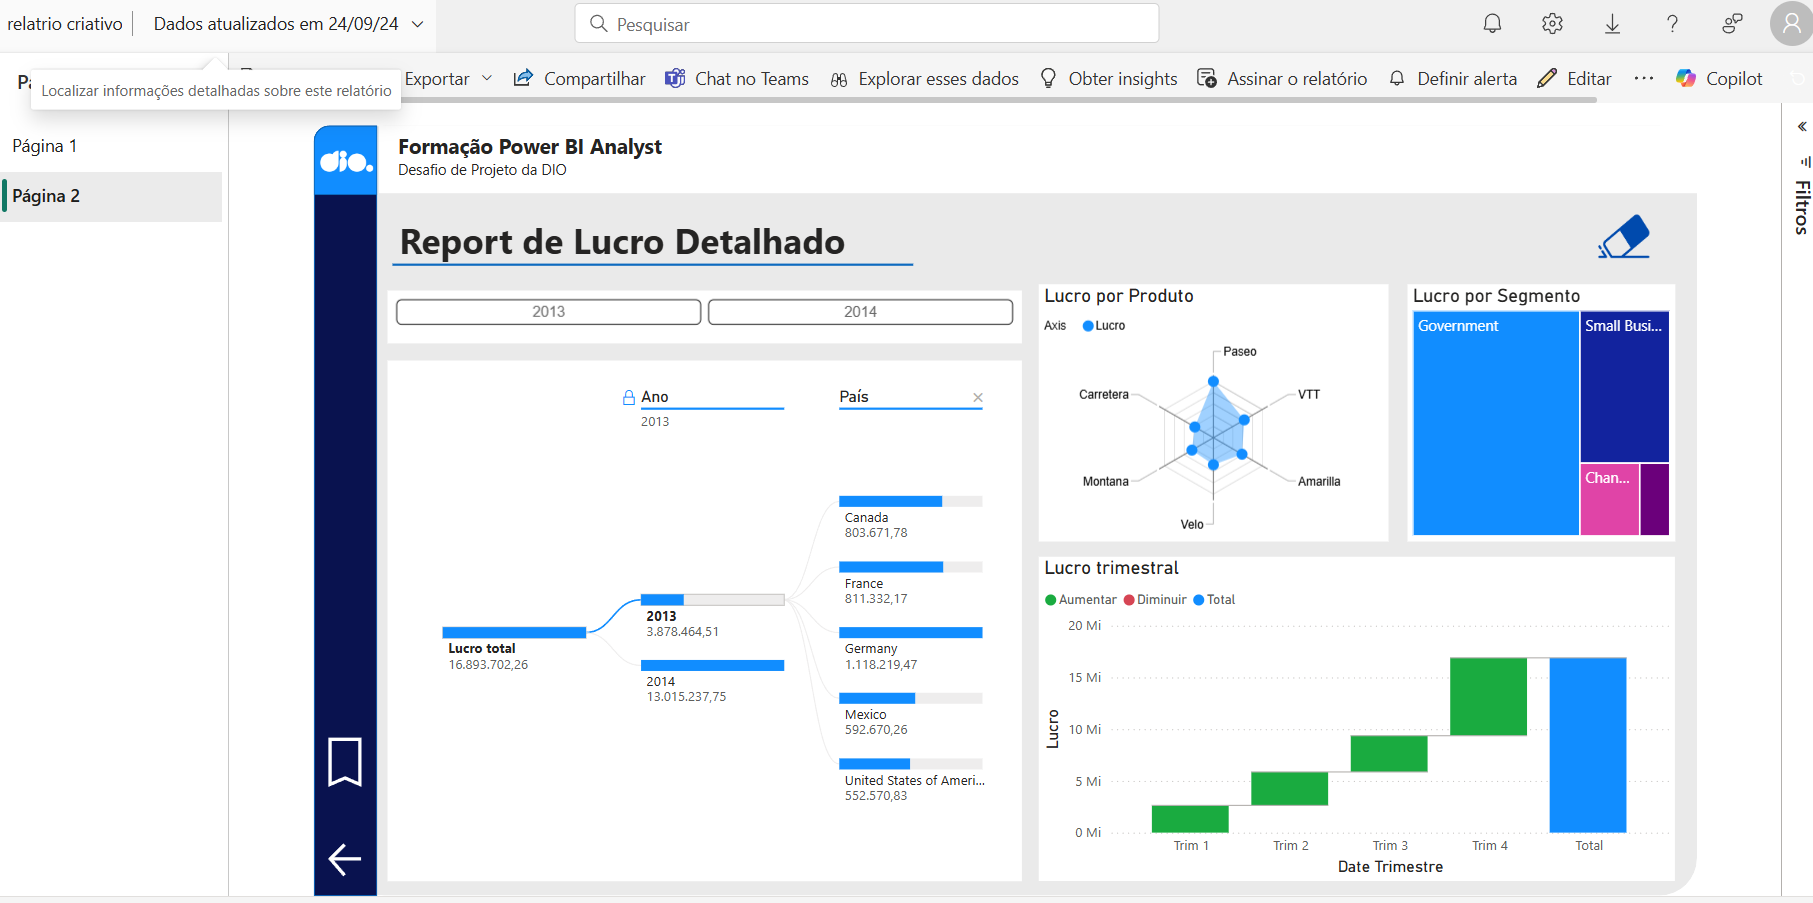

The page's visual inventory and layout, read from the dashboard file:
{"tool":"powerbi","page":{"name":"Página 2","canvas":[1280,720],"ordinal":1},"visuals":[{"type":"shape","box":[42.6,20.7,1225.3,699.3],"z":0},{"type":"shape","box":[83.9,127.8,473,37.1],"z":0,"group":"g1"},{"type":"textbox","box":[85.3,97.6,470.2,52.2],"z":1000,"group":"g1"},{"type":"shape","box":[12.4,20.2,57.7,699.8],"z":1000},{"type":"shape","box":[12.4,20.6,57.7,63.2],"z":2000},{"type":"image","box":[13.7,33,57.7,39.9],"z":3000},{"type":"image","title":"clean","box":[1172.6,93.5,59.8,56.1],"z":3000},{"type":"shape","title":"Fundo do Título","box":[71.5,20.6,1198.9,61.9],"z":4000},{"type":"textbox","title":"Título do report","box":[83.9,22,378.1,63.2],"z":5000},{"type":"shape","box":[79.7,233.7,576.1,473],"z":6000},{"type":"decompositionTreeVisual","fields":{"Analyze":["Sum(financials.Profit)"],"ExplainBy":["financials.Date.Variation.Hierarquia de datas.Ano","financials.Country"]},"box":[99.8,242.2,536.3,456.5],"z":7000},{"type":"waterfallChart","title":"Lucro trimestral","fields":{"Category":["financials.Date.Variation.Hierarquia de datas.Trimestre"],"Y":["Sum(financials.Profit)"]},"box":[670.9,412.5,577.4,294.2],"z":8000},{"type":"ChicletSlicer1448559807354","fields":{"Category":["financials.Date.Variation.Hierarquia de datas.Ano"]},"box":[79.7,170.5,576.1,48.1],"z":9000},{"type":"RadarChart1446119667547","title":"Lucro por Produto","fields":{"Category":["financials.Product"],"Y":["Sum(financials.Profit)"]},"box":[670.9,165,317.6,233.7],"z":10000},{"type":"treemap","title":"Lucro por Segmento","fields":{"Values":["Sum(financials.Profit)"],"Group":["financials.Segment"]},"box":[1005,165,243.4,233.7],"z":11000},{"type":"actionButton","box":[22,666.8,48.1,39.9],"z":12000},{"type":"group","id":"g1","title":"Sales report","box":[83.9,97.6,473,67.4],"z":13000},{"type":"actionButton","box":[12.8,545.8,57,105.5],"z":14000}]}

Visuals, with their boxes on the page's 1280x720 design canvas (x1, y1, x2, y2). These are canvas units, not pixel positions in the 1813x903 screenshot, which may show the page scaled, cropped or inside an application window:
shape: left=43, top=21, right=1268, bottom=720
shape: left=84, top=128, right=557, bottom=165
textbox: left=85, top=98, right=556, bottom=150
shape: left=12, top=20, right=70, bottom=720
shape: left=12, top=21, right=70, bottom=84
image: left=14, top=33, right=71, bottom=73
"clean" image: left=1173, top=94, right=1232, bottom=150
"Fundo do Título" shape: left=72, top=21, right=1270, bottom=82
"Título do report" textbox: left=84, top=22, right=462, bottom=85
shape: left=80, top=234, right=656, bottom=707
decompositionTreeVisual - Sum(financials.Profit) x financials.Date.Variation.Hierarquia de datas.Ano: left=100, top=242, right=636, bottom=699
"Lucro trimestral" waterfallChart: left=671, top=412, right=1248, bottom=707
ChicletSlicer1448559807354 - financials.Date.Variation.Hierarquia de datas.Ano: left=80, top=170, right=656, bottom=219
"Lucro por Produto" RadarChart1446119667547: left=671, top=165, right=988, bottom=399
"Lucro por Segmento" treemap: left=1005, top=165, right=1248, bottom=399
actionButton: left=22, top=667, right=70, bottom=707
"Sales report" group: left=84, top=98, right=557, bottom=165
actionButton: left=13, top=546, right=70, bottom=651
